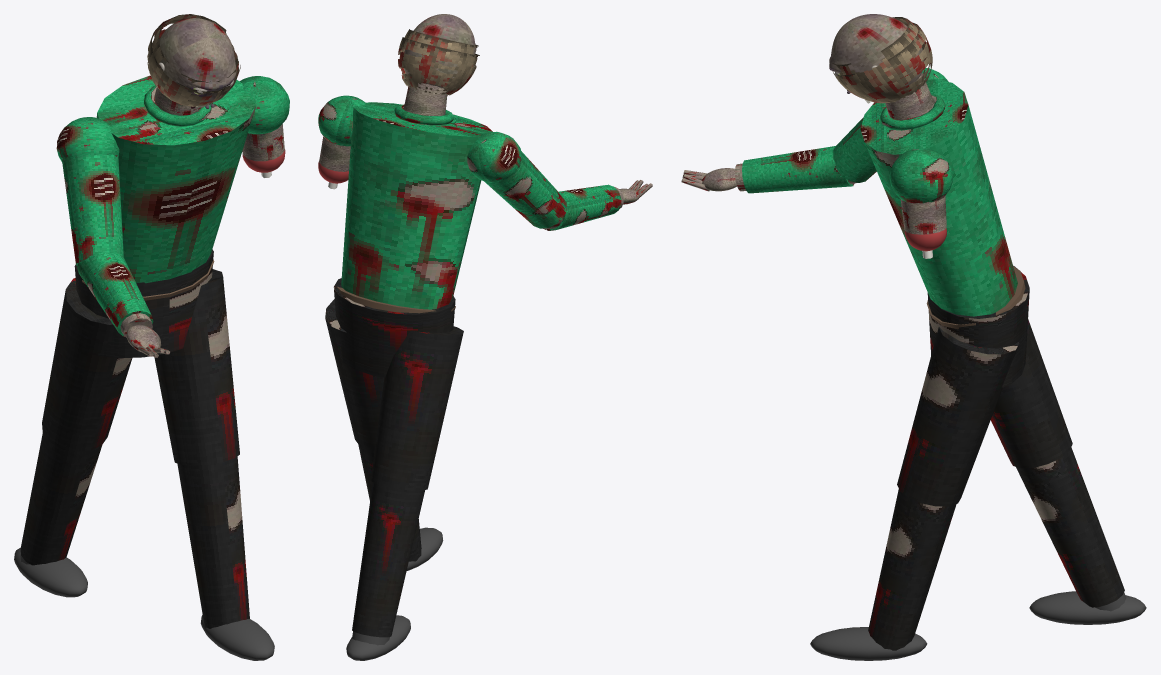
File: Zombie_009.glb
3 views of the same model, side by side, from view 1: azimuth 30°, elevation 25°; view 2: azimuth 150°, elevation 25°; view 3: azimuth 270°, elevation 25° (orthographic). The views are drawn at different scales.
Visible parts, largest first — view 1: Zombie_009, object 10, object 4, object 35, object 36, object 5; view 2: Zombie_009, object 36, object 4, object 10, object 35; view 3: Zombie_009, object 4, object 10, object 36, object 35, object 5.
Part boxes in pixels (box(x1,y1,x2,y2)): Zombie_009: box(14, 75, 289, 660); object 10: box(159, 18, 236, 105); object 4: box(77, 252, 153, 336); object 35: box(152, 14, 238, 102); object 36: box(147, 18, 240, 106); object 5: box(126, 325, 161, 351); Zombie_009: box(318, 83, 567, 660); object 36: box(398, 37, 479, 95); object 4: box(542, 184, 621, 230); object 10: box(404, 14, 476, 90); object 35: box(399, 29, 478, 90); Zombie_009: box(810, 68, 1146, 660); object 4: box(742, 146, 853, 193); object 10: box(829, 14, 924, 86); object 36: box(832, 22, 932, 103); object 35: box(830, 17, 929, 91); object 5: box(702, 168, 736, 191).
Size of the model in its own units: 0.6741 by 1.58 by 1.07.
Materials: 18 (6 with a texture image).
